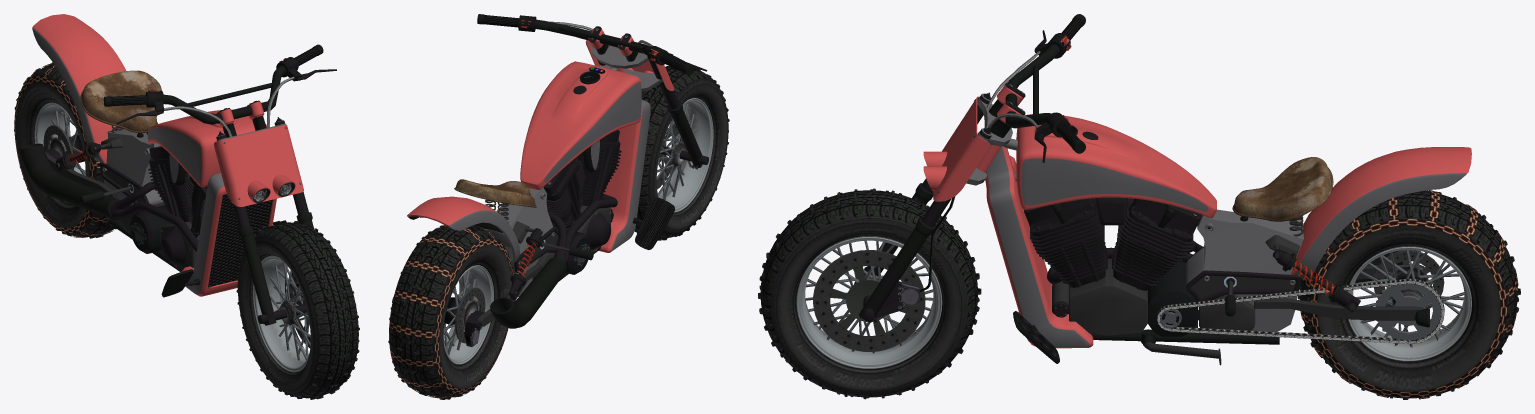
Rendered from moto-western.glb.
3 views of the same model, side by side, from view 1: azimuth 30°, elevation 25°; view 2: azimuth 150°, elevation 25°; view 3: azimuth 270°, elevation 25° (orthographic). The views are drawn at different scales.
Parts seen in each view (by area): view 1: body, wheel_F, wheel_R; view 2: body, wheel_R, wheel_F; view 3: body, wheel_F, wheel_R.
Part boxes in pixels (bbox=[...]): body: bbox=[19, 14, 336, 325]; wheel_F: bbox=[236, 220, 359, 399]; wheel_R: bbox=[14, 62, 123, 238]; body: bbox=[392, 14, 708, 346]; wheel_R: bbox=[388, 225, 513, 399]; wheel_F: bbox=[634, 66, 729, 240]; body: bbox=[859, 14, 1471, 365]; wheel_F: bbox=[758, 188, 981, 399]; wheel_R: bbox=[1297, 190, 1520, 399].
Size of the model in its own units: 0.9092 by 1.03 by 2.23.
12 materials, 10 textured.
